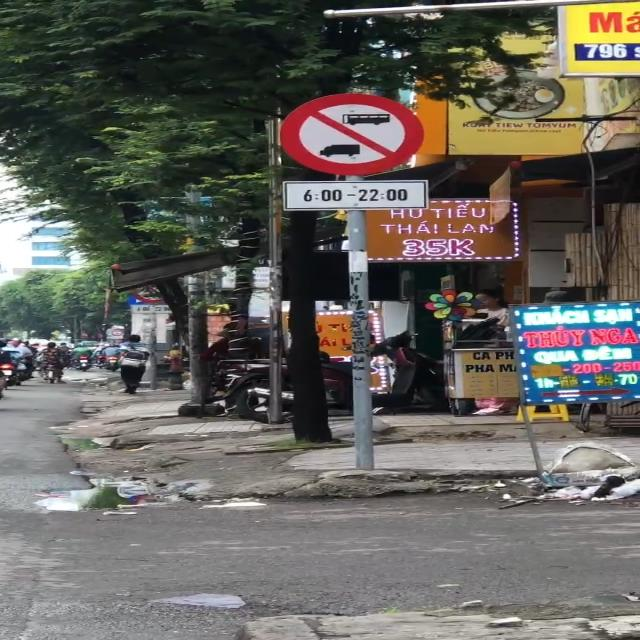Bien bao cam xe oto khach va xe oto tai: (270, 92, 433, 179)
